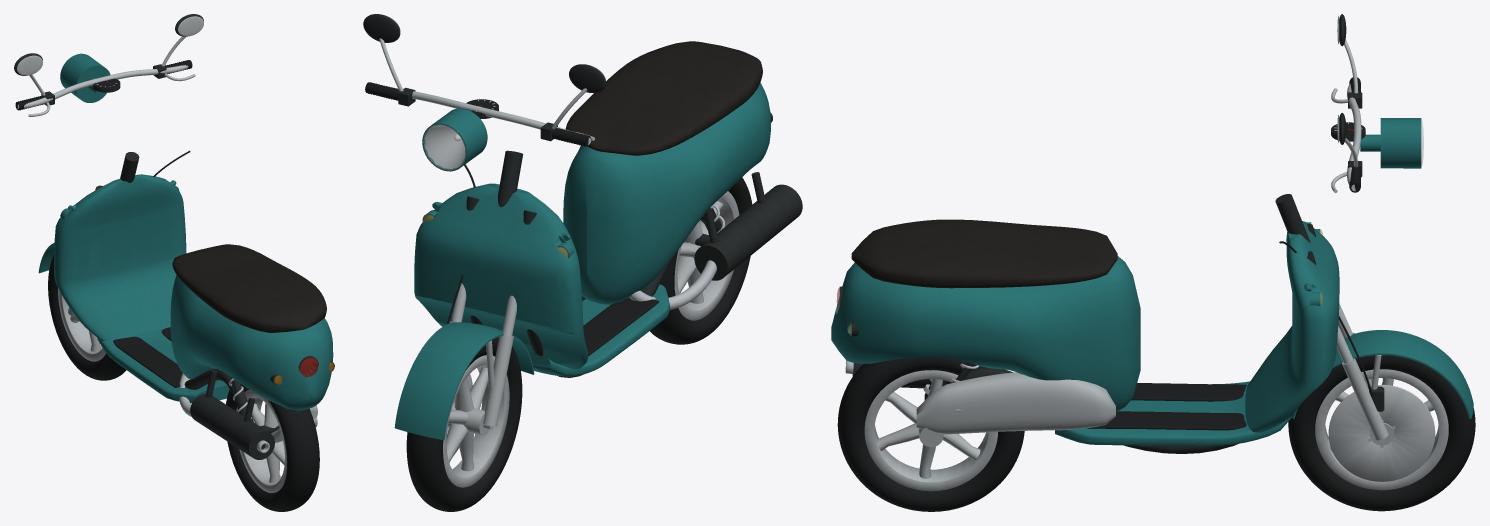
Rendered from urban-motor-scooter.glb.
3 views of the same model, side by side, from view 1: azimuth 30°, elevation 25°; view 2: azimuth 150°, elevation 25°; view 3: azimuth 270°, elevation 25° (orthographic). The views are drawn at different scales.
Visible parts, largest first — view 1: body, rear-wheel, steering, front-wheel, front-fork; view 2: body, front-wheel, front-fork, steering, rear-wheel; view 3: body, front-wheel, rear-wheel, front-fork, steering.
Part boxes in pixels (x1,y1,x2,y2): body: [54, 152, 334, 459]; rear-wheel: [226, 383, 319, 511]; steering: [14, 14, 203, 116]; front-wheel: [48, 255, 126, 380]; front-fork: [38, 150, 190, 316]; body: [414, 41, 802, 377]; front-wheel: [406, 337, 522, 511]; front-fork: [394, 164, 574, 440]; steering: [363, 14, 605, 171]; rear-wheel: [650, 177, 752, 344]; body: [831, 194, 1339, 453]; front-wheel: [1288, 355, 1475, 511]; rear-wheel: [837, 357, 1024, 511]; front-fork: [1279, 229, 1473, 440]; steering: [1331, 14, 1423, 192].
Bounding box in the file's own units: 0.7956 × 1.41 × 1.86.
Materials: 13 (13 with a texture image).
